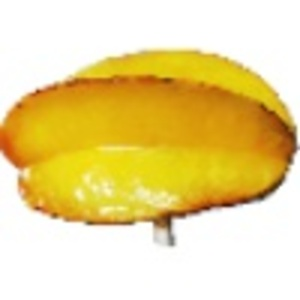carambola: (1, 47, 300, 242)
